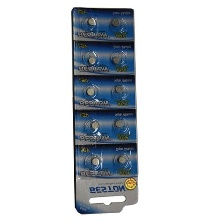book: (112, 82, 126, 95), (84, 14, 97, 28), (112, 116, 125, 129), (110, 53, 122, 66), (116, 153, 129, 164), (89, 154, 100, 167), (89, 119, 100, 131), (85, 85, 97, 96), (86, 54, 98, 65), (110, 15, 121, 26)
